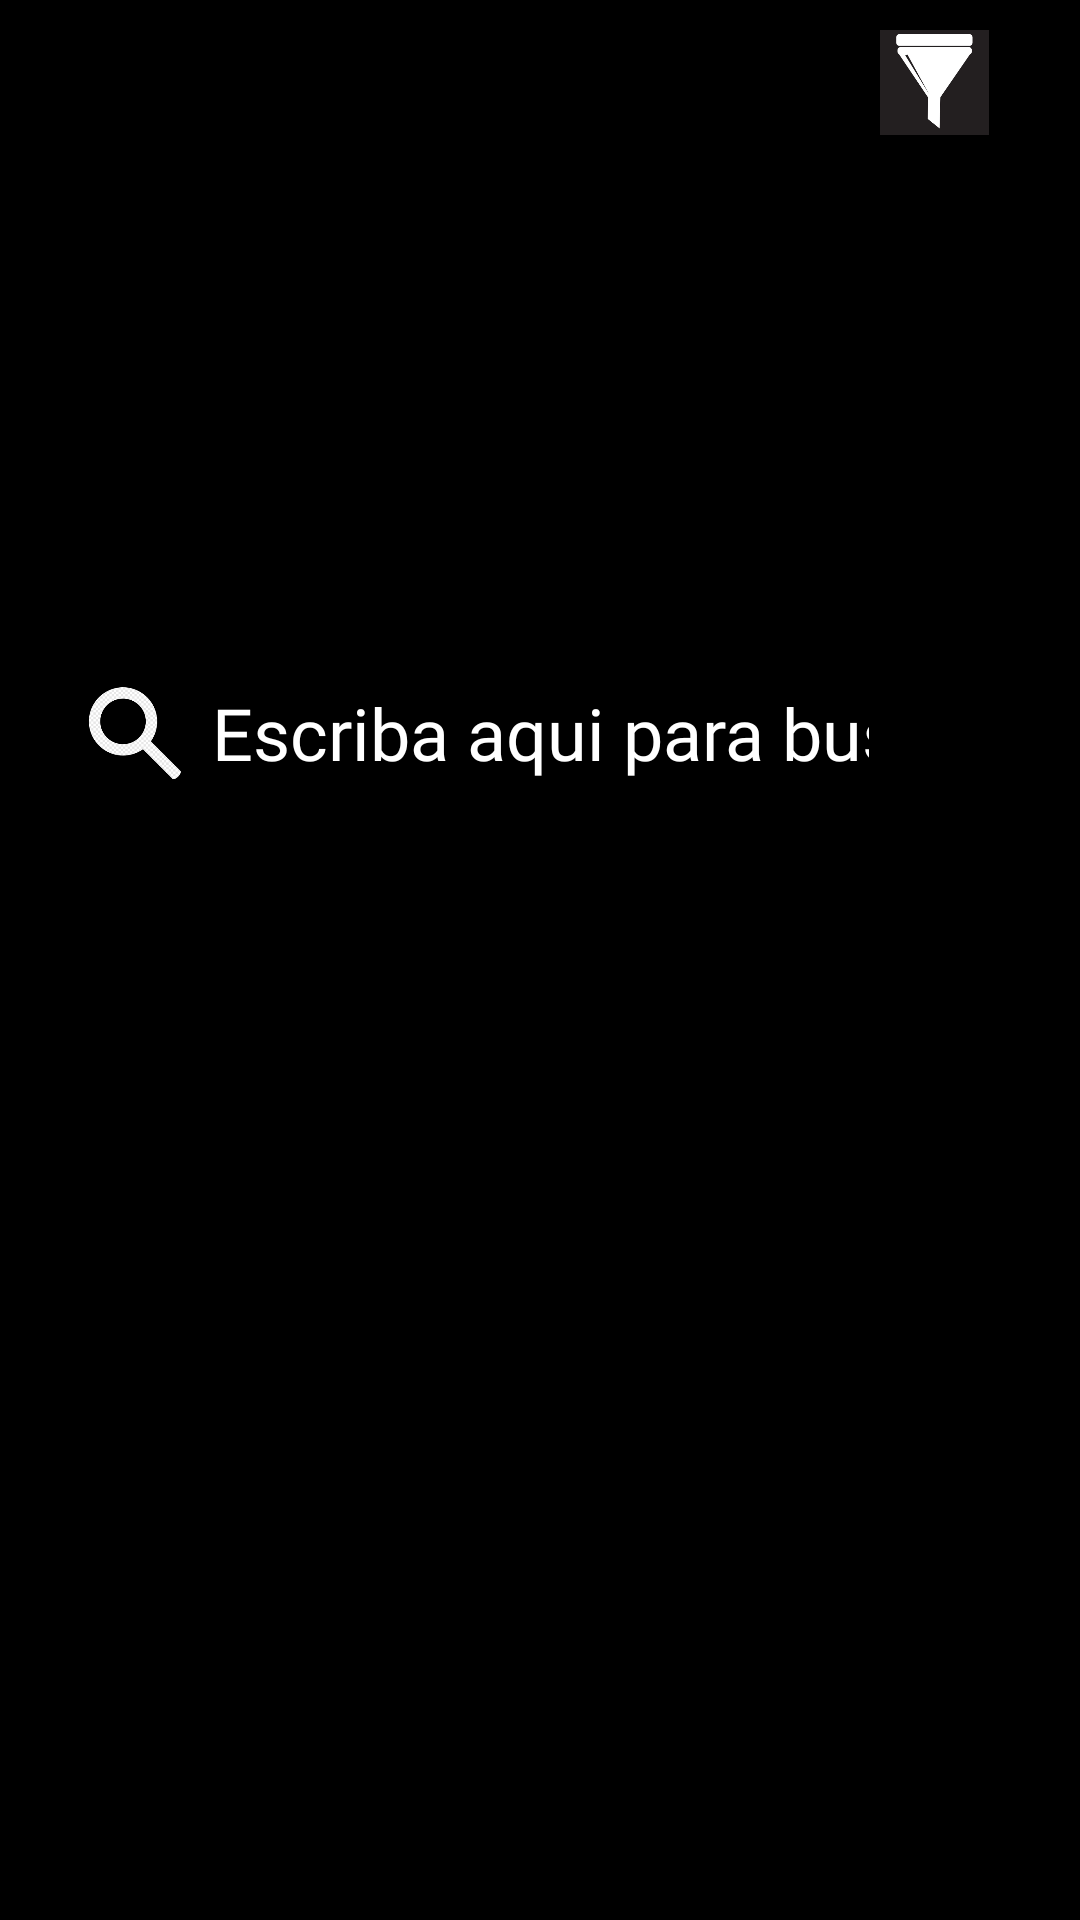

Icon bounding boxes for this 1080×1920 phone screenshot, format box=[x1, y1, x2, y2]:
busqueda: box=[89, 687, 181, 779]
filtro: box=[880, 30, 989, 135]
